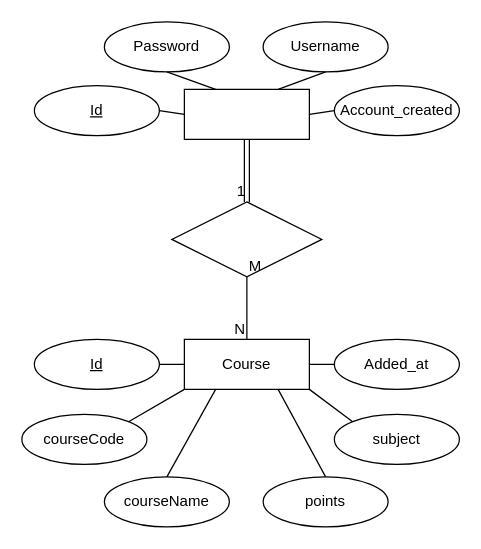
Some shapes in this 481 by 549 pixel diagram are drawn without their labels. Each missing label, with the box of its shape:
Added: (171, 201, 322, 277)
User: (183, 88, 309, 139)
